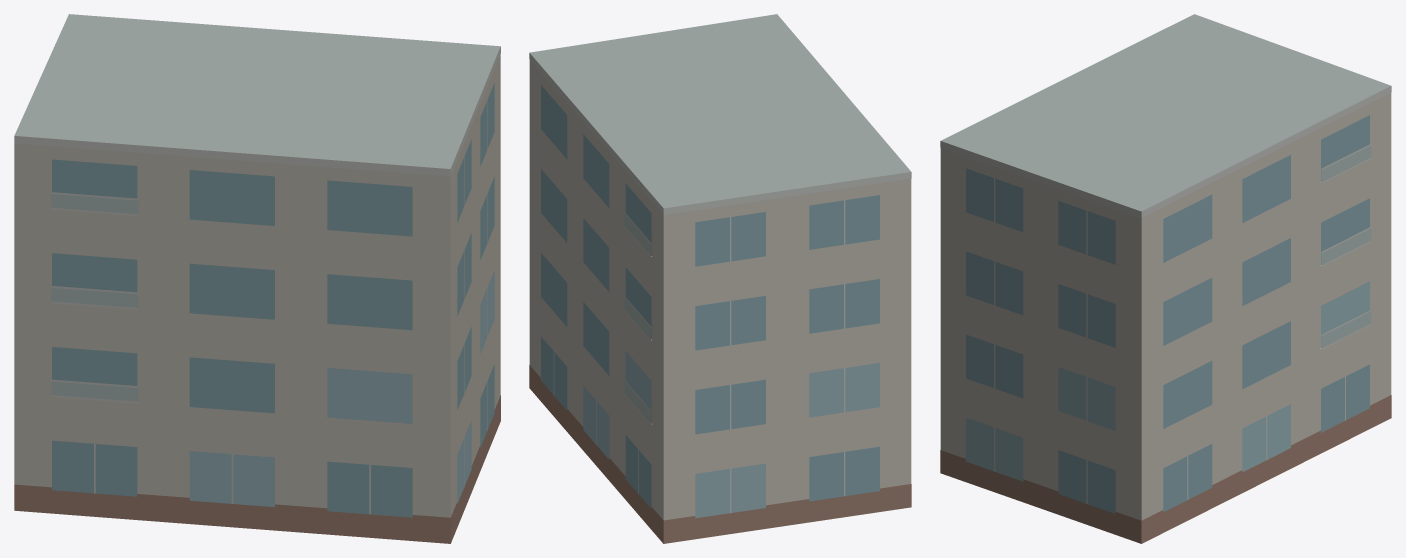
Rendered from survey-upis-32677865.glb.
3 renders of one model, left to right at view 1: azimuth 30°, elevation 25°; view 2: azimuth 150°, elevation 25°; view 3: azimuth 270°, elevation 25°, orthographic. The views are drawn at different scales.
Visible parts, largest first — view 1: survey-upis-32677865.tmp; view 2: survey-upis-32677865.tmp; view 3: survey-upis-32677865.tmp.
Boxes of the visible parts, <box> form: survey-upis-32677865.tmp: <box>14,14,500,543</box>; survey-upis-32677865.tmp: <box>529,14,911,543</box>; survey-upis-32677865.tmp: <box>940,14,1391,543</box>.
Bounding box in the file's own units: 15.56 × 12.2 × 15.01.
